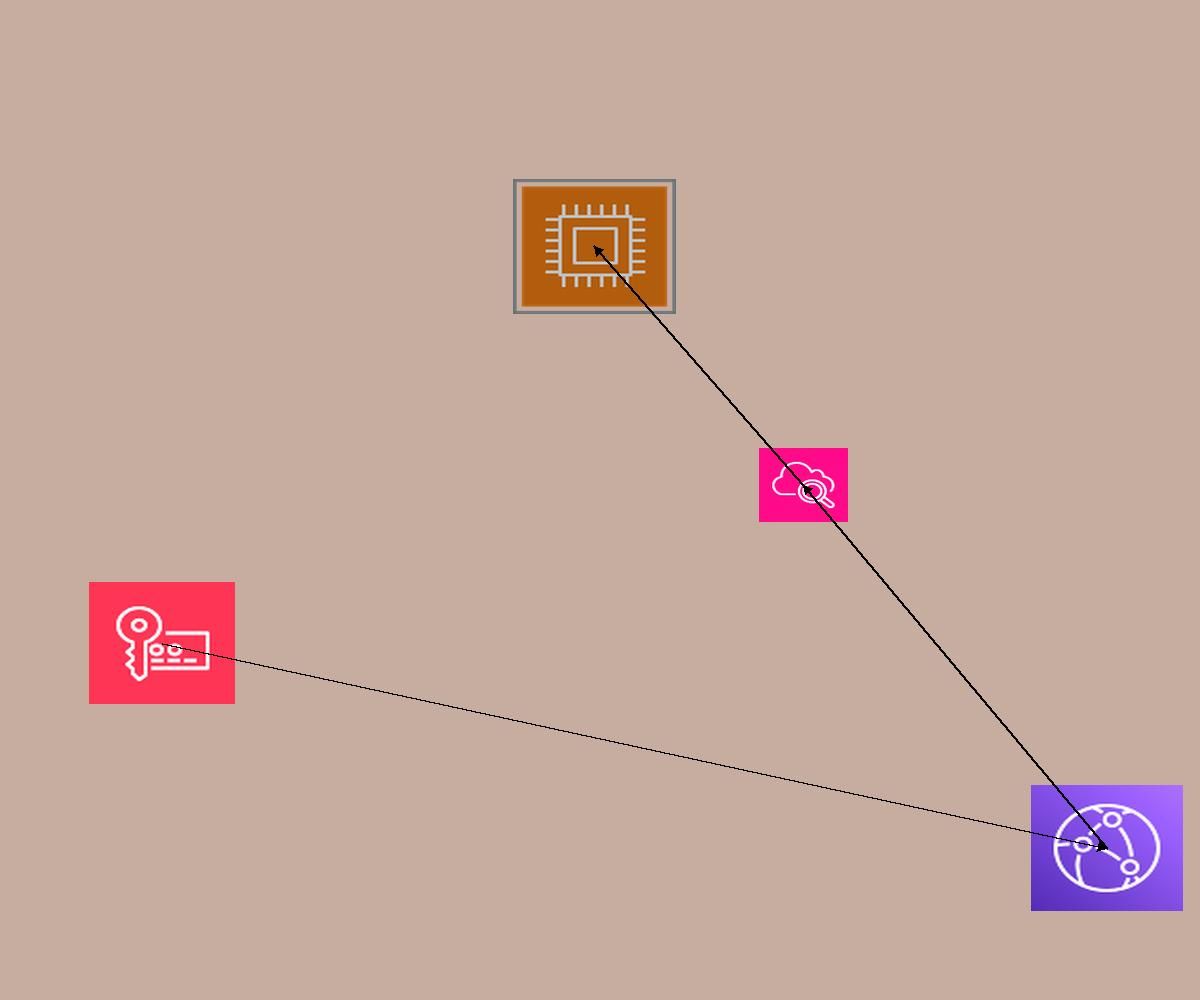AWS-Category_Compute: (513, 179, 676, 314)
AWS-CloudFront: (1031, 785, 1183, 911)
AWS-CloudWatch: (759, 448, 848, 522)
AWS-Key-Management-Service: (89, 582, 235, 704)
